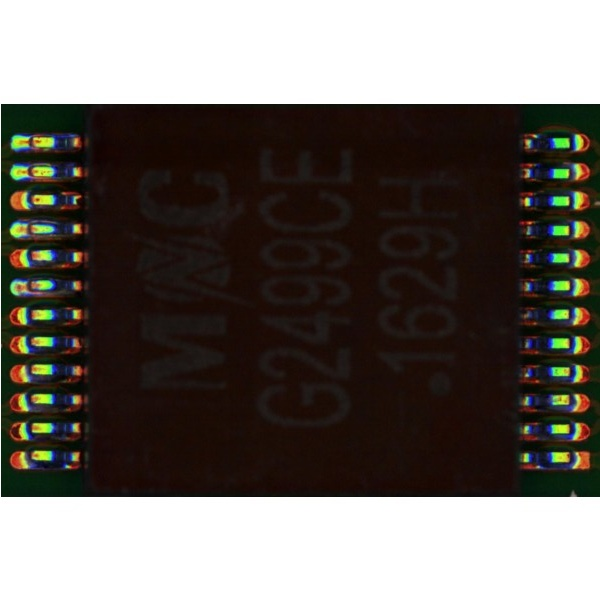Bad_podu: (18, 138, 40, 146), (20, 225, 36, 234), (20, 281, 34, 291), (18, 168, 36, 175)
